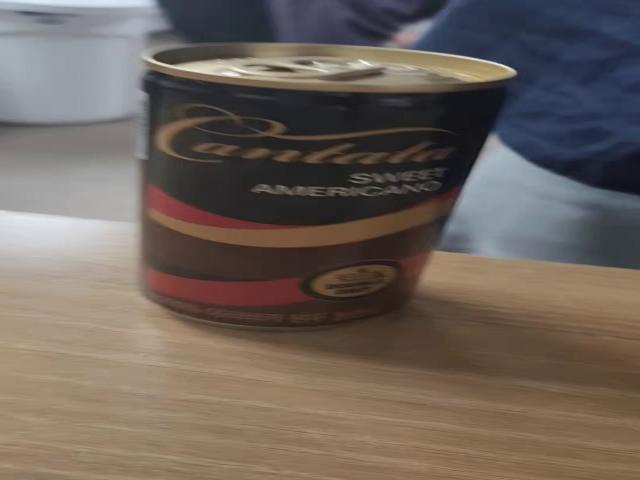Canned_drinks: (145, 27, 520, 341)
